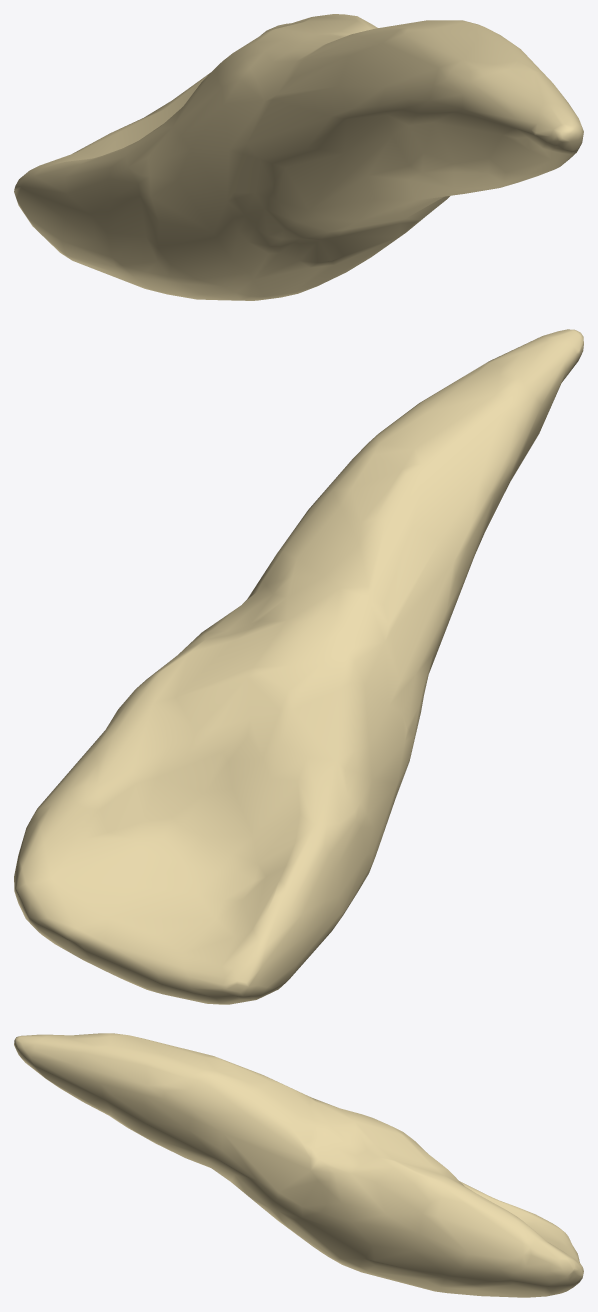
3 renders of one model, top to bottom at view 1: azimuth 30°, elevation 25°; view 2: azimuth 150°, elevation 25°; view 3: azimuth 270°, elevation 25°, orthographic. The views are drawn at different scales.
Visible parts, largest first — view 1: 左侧上颌中切牙; view 2: 左侧上颌中切牙; view 3: 左侧上颌中切牙.
Boxes of the visible parts, box(x1,y1,x2,y2) form: 左侧上颌中切牙: box(14, 14, 583, 300); 左侧上颌中切牙: box(14, 329, 583, 1004); 左侧上颌中切牙: box(14, 1033, 583, 1297).
Bounding box in the file's own units: 0.0129 × 0.0186 × 0.0379.
